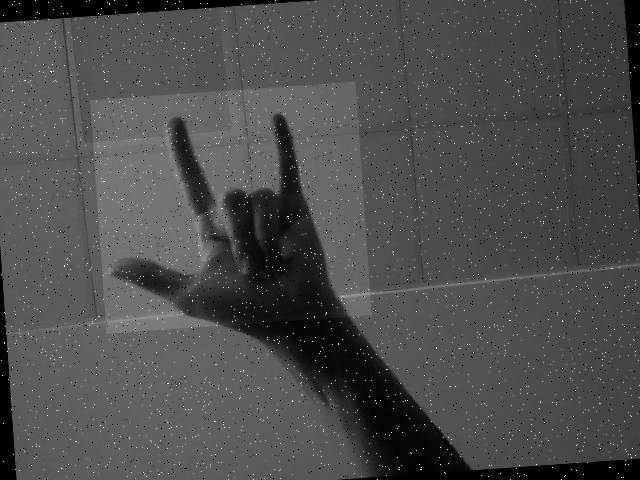I_Love_You: (90, 81, 372, 333)
